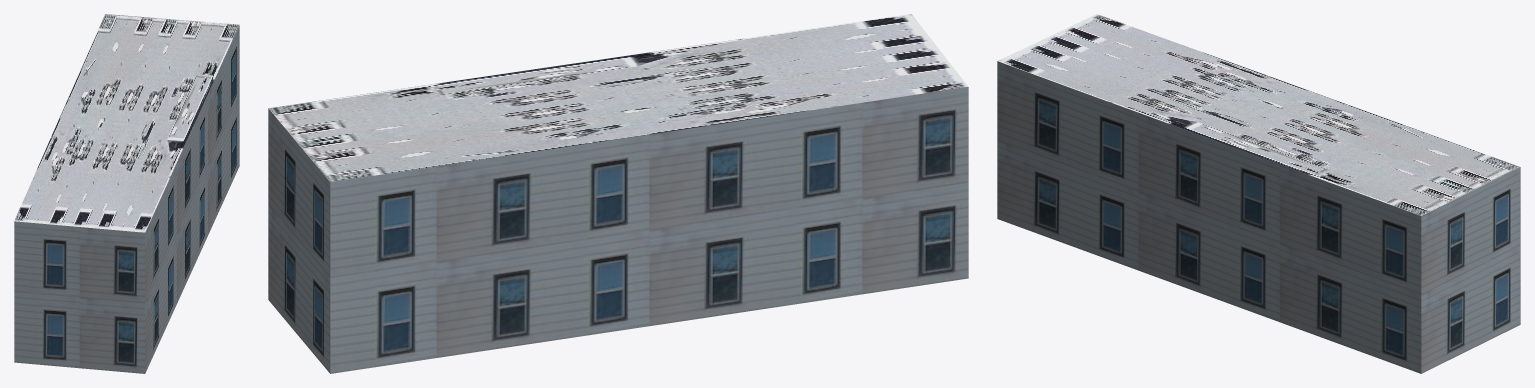
File: ResTex__1614.fbx
The picture shows the model from 3 angles, left to right: view 1: azimuth 30°, elevation 25°; view 2: azimuth 150°, elevation 25°; view 3: azimuth 270°, elevation 25°; orthographic projection. The views are drawn at different scales.
Visible parts, largest first — view 1: CityEngineMaterial_18_m, CityEngineMaterial_8_m; view 2: CityEngineMaterial_18_m, CityEngineMaterial_8_m; view 3: CityEngineMaterial_18_m, CityEngineMaterial_8_m.
Part boxes in pixels (x1=…): CityEngineMaterial_18_m: x1=14, y1=25, x2=239, y2=373; CityEngineMaterial_8_m: x1=14, y1=14, x2=239, y2=232; CityEngineMaterial_18_m: x1=268, y1=87, x2=968, y2=373; CityEngineMaterial_8_m: x1=269, y1=14, x2=968, y2=182; CityEngineMaterial_18_m: x1=997, y1=61, x2=1520, y2=373; CityEngineMaterial_8_m: x1=997, y1=14, x2=1519, y2=215.
Size of the model in its own units: 16.48 by 6 by 18.03.
2 materials, 2 textured.
